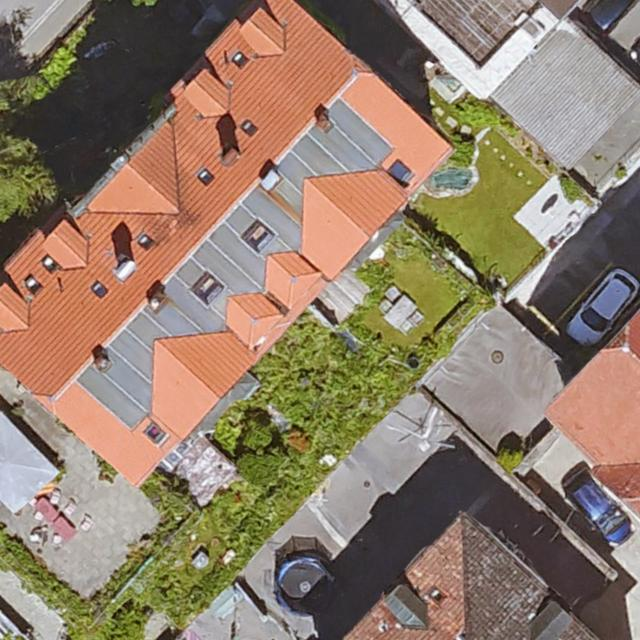tree: (0, 132, 64, 221)
